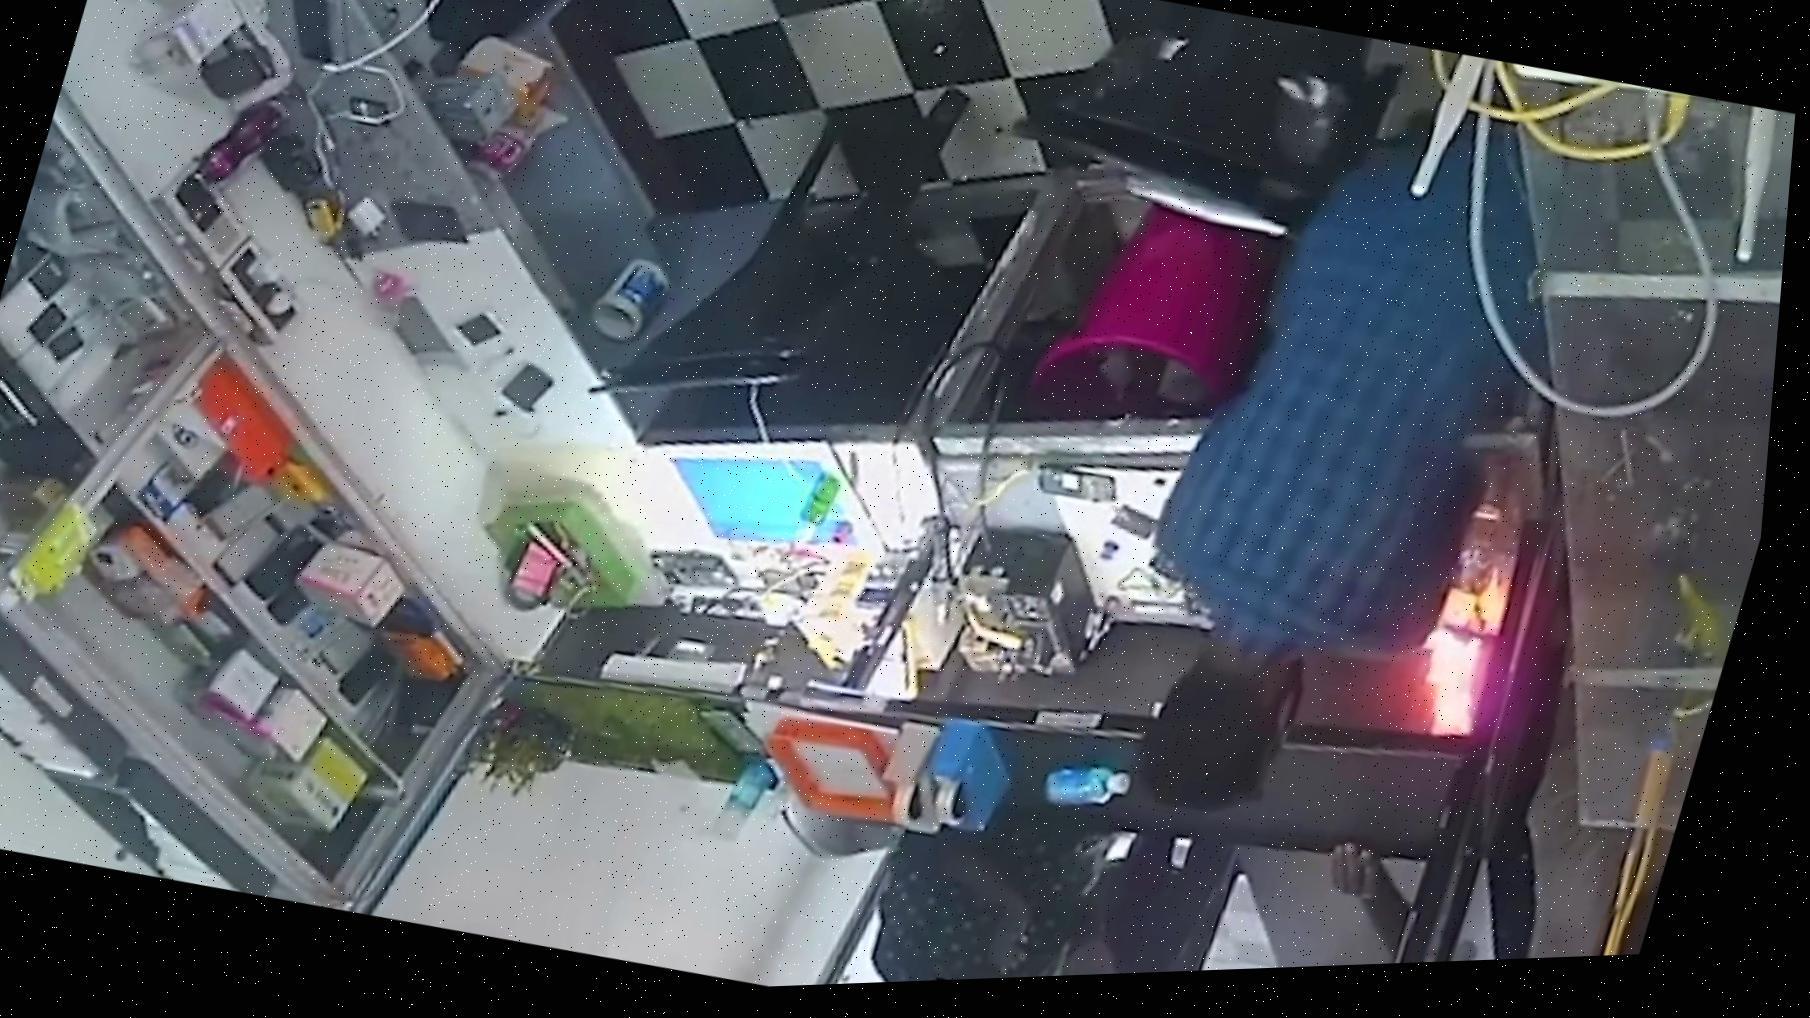fire: (1320, 410, 1587, 796)
